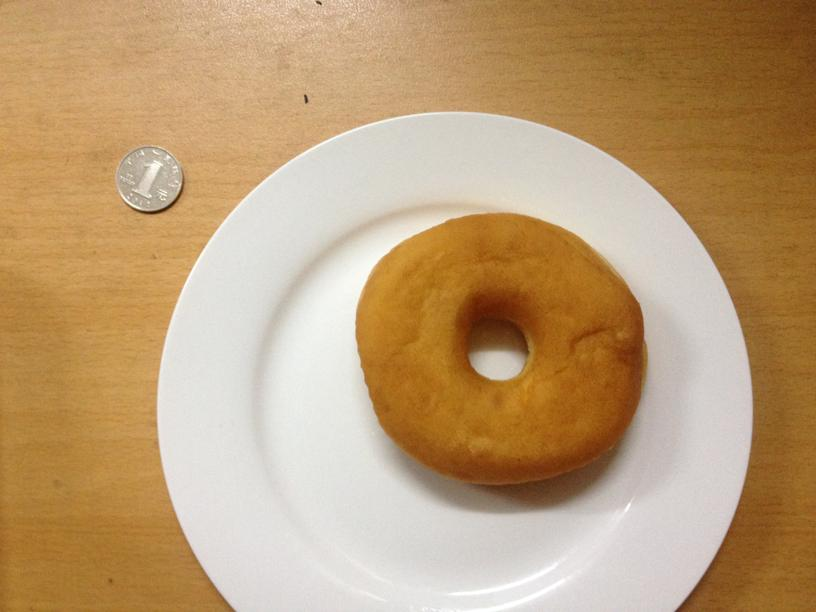coin: (113, 145, 184, 214)
doughnut: (352, 212, 644, 487)
